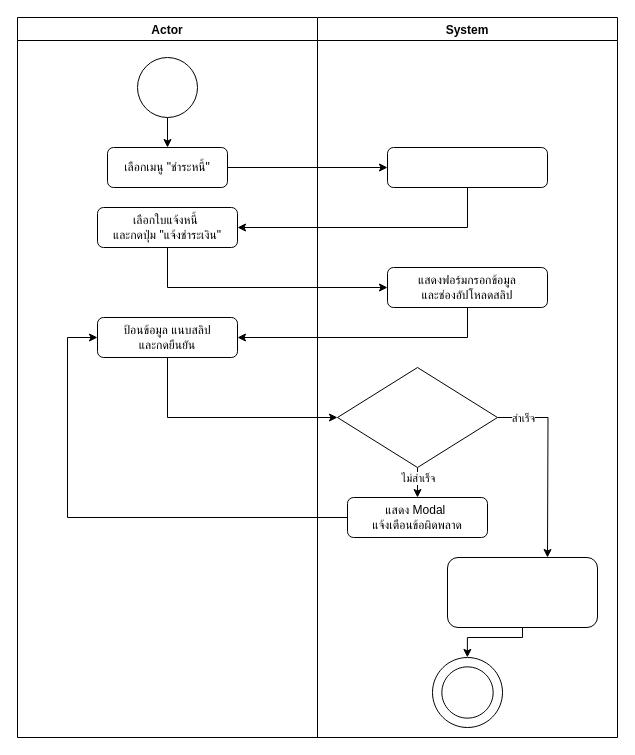
Some shapes in this 635 by 755 pixel diagram are drawn without their labels. The shapes that lost their labels are listed below. From the top down, each one's centre as x and y in pixels, then its label:
point (467, 167): แสดงรายการใบแจ้งหนี้ สถานะค้างชำระทั้งหมด
point (417, 417): ตรวจสอบความครบถ้วน และรูปแบบไฟล์สลิป
point (522, 592): บันทึกข้อมูล เปลี่ยนสถานะ เป็น "รอตรวจสอบ" และแสดง Modal สำเร็จ
